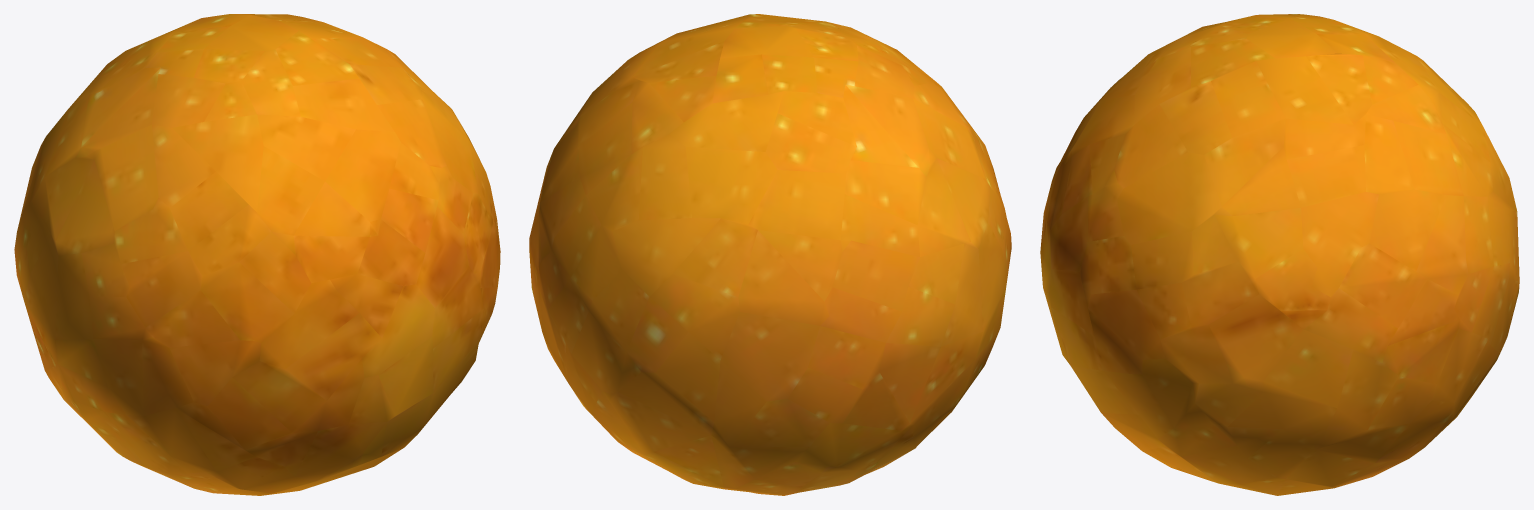
File: obj_orb.glb
The picture shows the model from 3 angles, left to right: view 1: azimuth 30°, elevation 25°; view 2: azimuth 150°, elevation 25°; view 3: azimuth 270°, elevation 25°; orthographic projection.
Visible parts, largest first — view 1: Orb; view 2: Orb; view 3: Orb.
Part boxes in pixels (x1,y1,x2,y2): Orb: [14, 14, 500, 495]; Orb: [529, 14, 1011, 495]; Orb: [1040, 14, 1519, 495].
Size of the model in its own units: 1.98 by 1.98 by 1.99.
Materials: 1 (1 with a texture image).
